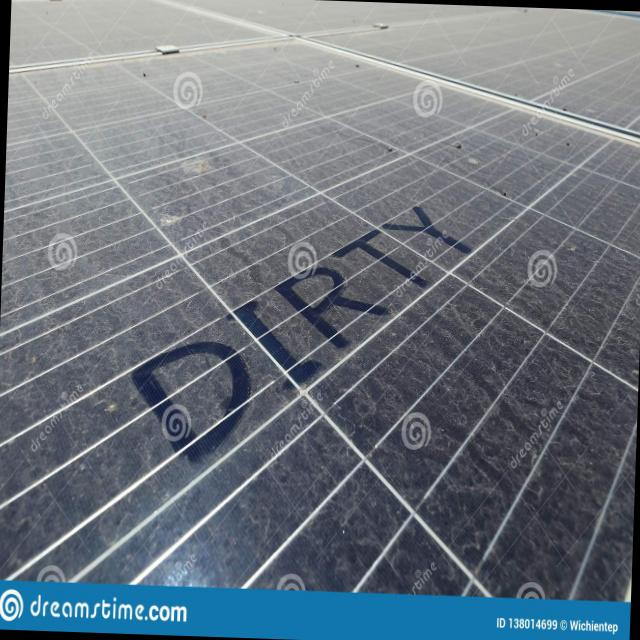faulty: (7, 41, 640, 594)
